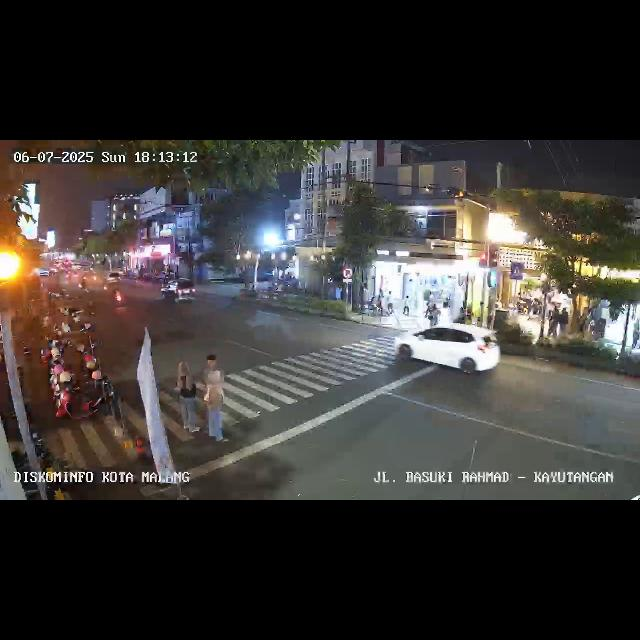car: (396, 322, 502, 380), (159, 278, 197, 304)
motorcycle: (112, 285, 126, 311)
person: (174, 358, 200, 436), (205, 370, 228, 442), (202, 354, 225, 384), (550, 306, 562, 344), (426, 300, 438, 324), (632, 319, 640, 351), (598, 314, 606, 342), (402, 294, 411, 318), (386, 292, 394, 316)
